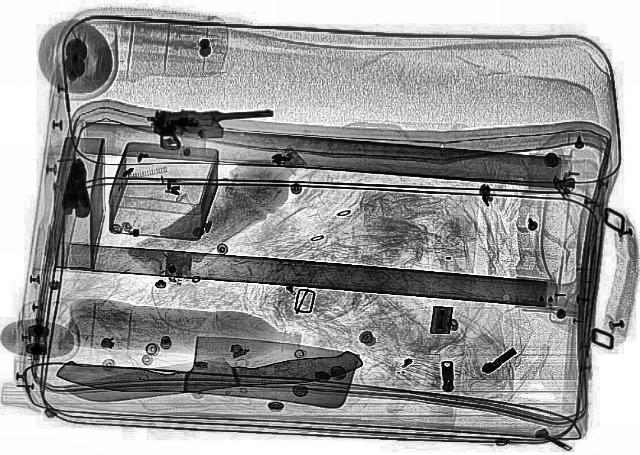Gun: (146, 105, 274, 150), (56, 158, 98, 217)
Knife: (56, 324, 360, 410), (58, 344, 364, 404)
